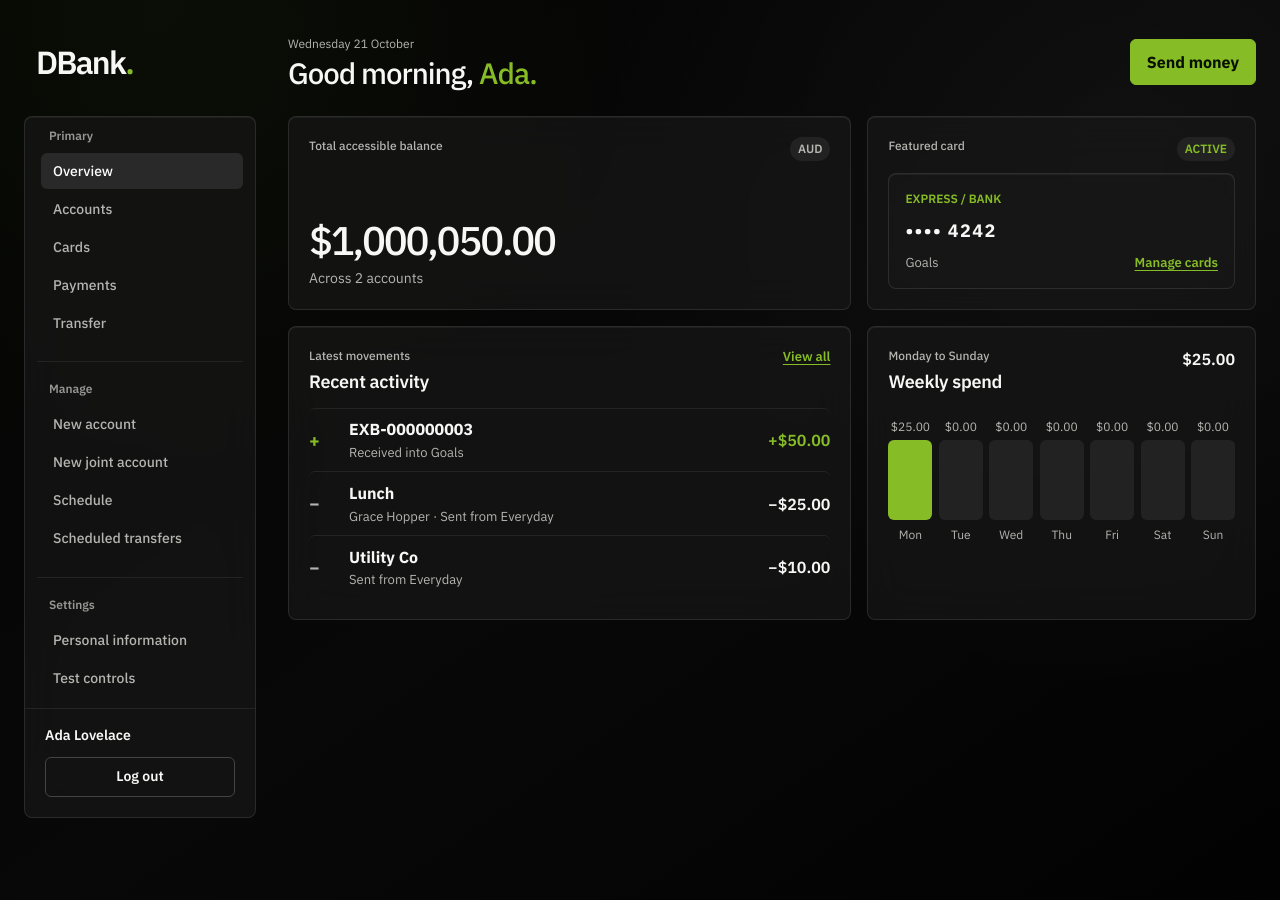
it: Dashboard navigation › drills activity into an owned account history
Click the link with test id "overview-activity-account-1-transaction-sent-sent" at {"x": 372, "y": 493}, box [309,471,830,535]
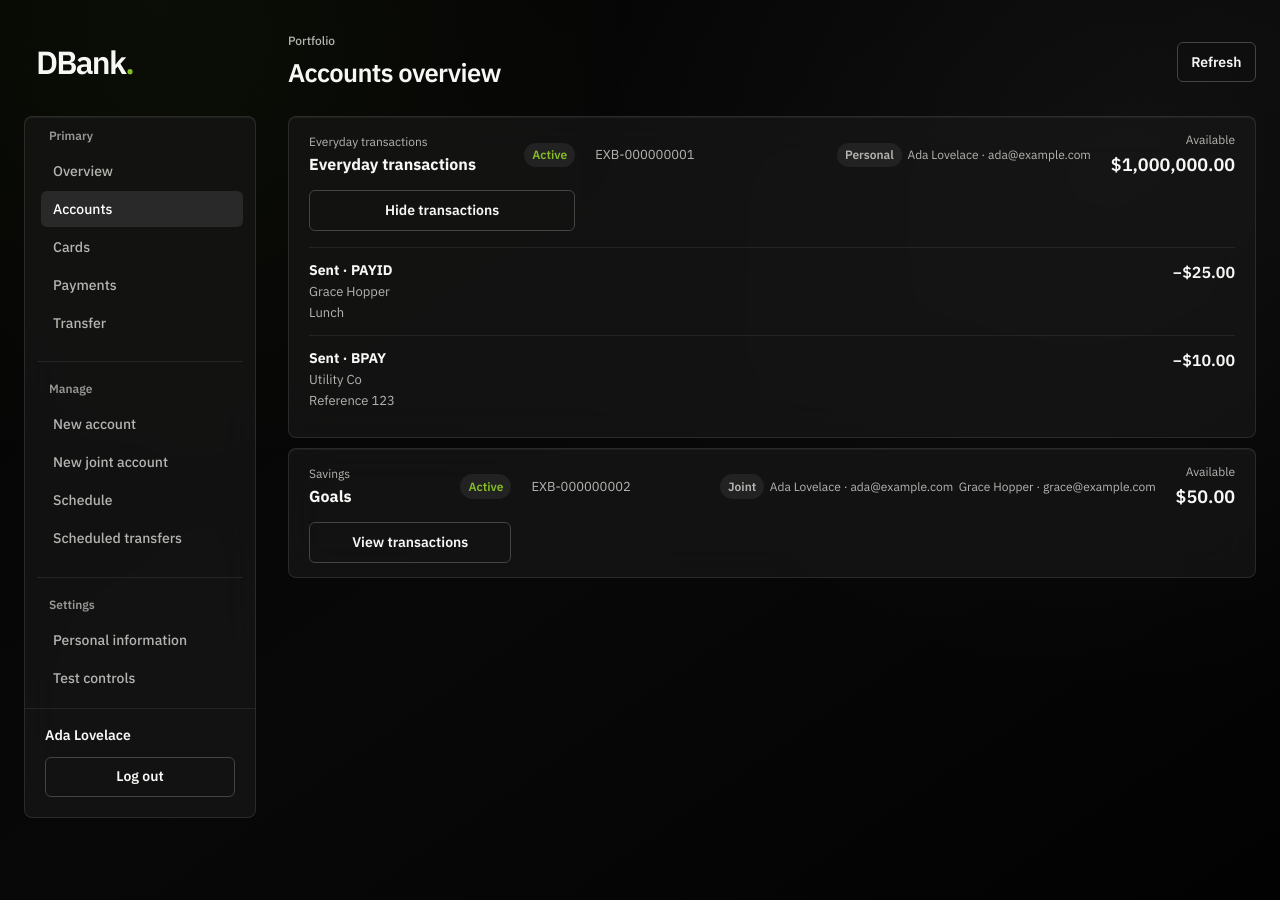
Expected: the element with test id "transactions-panel-account-1" is shown, [309,247,1235,423]
